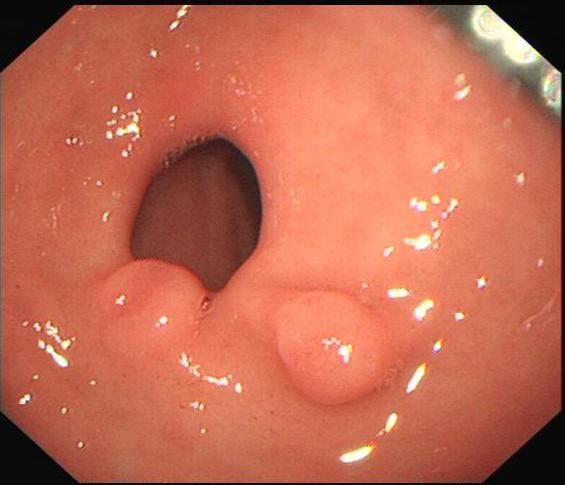Polyp: (244, 262, 431, 422)
